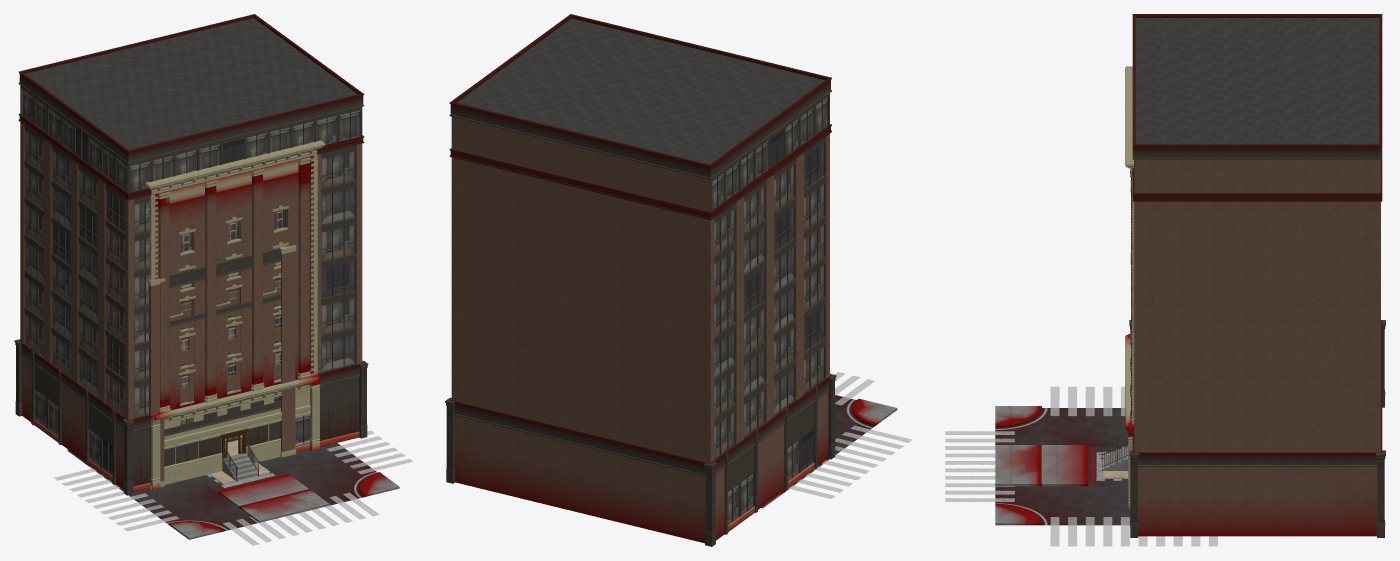
File: city.glb
3 renders of one model, left to right at view 1: azimuth 30°, elevation 25°; view 2: azimuth 150°, elevation 25°; view 3: azimuth 270°, elevation 25°, orthographic. The views are drawn at different scales.
Visible parts, largest first — view 1: Building_Large_2, Building_Medium_2.001, Building_Small_1, Street_4WayIntersection, Street_4Lane, Street_2Lane; view 2: Building_Large_2, Street_4WayIntersection; view 3: Building_Large_2, Street_4WayIntersection, Street_4Lane, Building_Medium_2.001, Street_2Lane, Building_Small_1.
Boxes of the visible parts, box(x1,y1,x2,y2) form: Building_Large_2: box(14, 14, 368, 495); Building_Medium_2.001: box(145, 140, 325, 490); Building_Small_1: box(148, 245, 296, 489); Street_4WayIntersection: box(54, 430, 413, 545); Street_4Lane: box(197, 460, 329, 522); Street_2Lane: box(216, 474, 308, 507); Building_Large_2: box(445, 14, 836, 546); Street_4WayIntersection: box(761, 370, 911, 508); Building_Large_2: box(1129, 14, 1385, 537); Street_4WayIntersection: box(945, 386, 1217, 546); Street_4Lane: box(995, 445, 1128, 486); Building_Medium_2.001: box(1125, 66, 1134, 511); Street_2Lane: box(1041, 445, 1093, 486); Building_Small_1: box(1098, 180, 1130, 470).
Size of the model in its own units: 24.67 by 28.15 by 28.66.
Materials: 13 (12 with a texture image).
